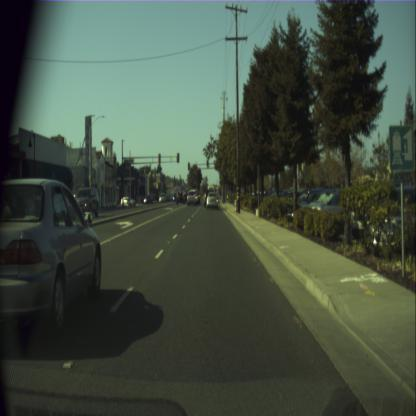Green: (206, 160, 209, 167)
off: (188, 162, 190, 169)
